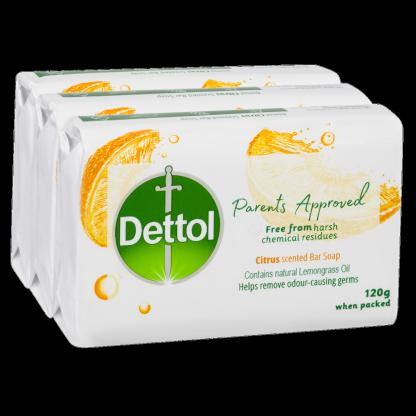soap: (12, 63, 416, 365)
